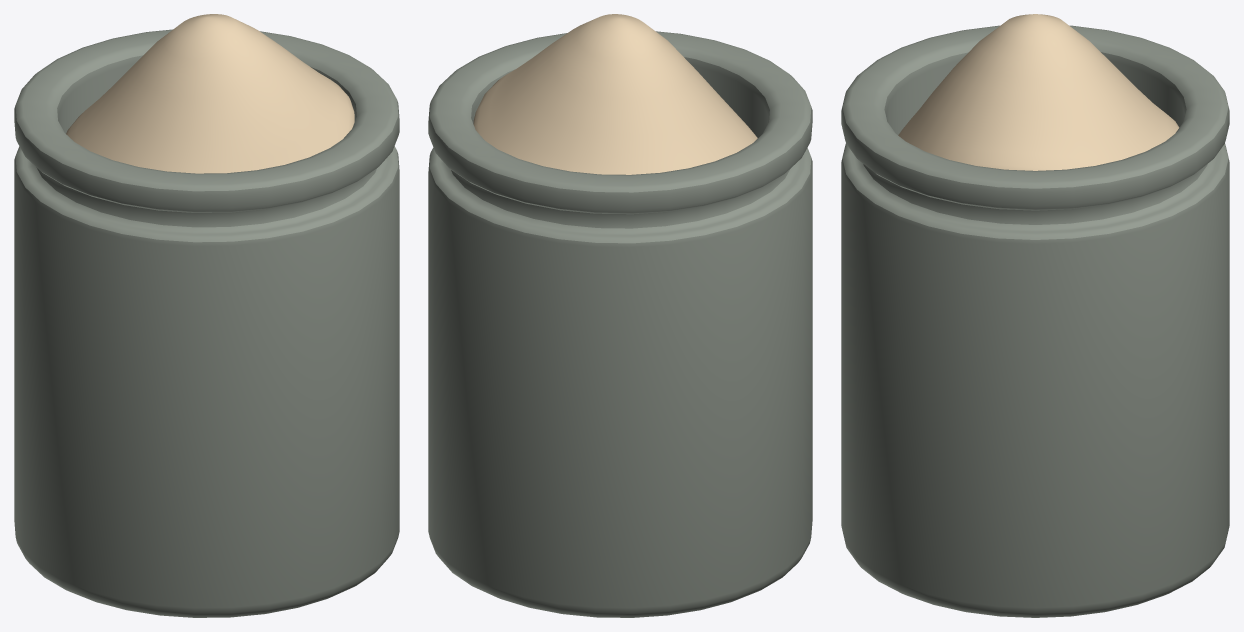
Rendered from Farine.fbx.
3 views of the same model, side by side, from view 1: azimuth 30°, elevation 25°; view 2: azimuth 150°, elevation 25°; view 3: azimuth 270°, elevation 25° (orthographic).
Parts seen in each view (by area): view 1: Cylinder; view 2: Cylinder; view 3: Cylinder.
Part boxes in pixels (x1,y1,x2,y2): Cylinder: [14, 14, 399, 617]; Cylinder: [428, 14, 812, 617]; Cylinder: [841, 14, 1229, 617].
Size of the model in its own units: 40 by 60 by 40.
